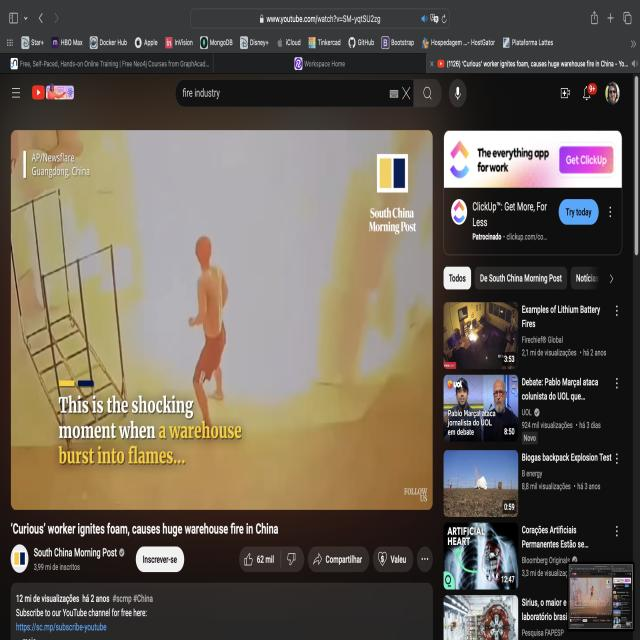Fogo: (36, 134, 424, 435)
